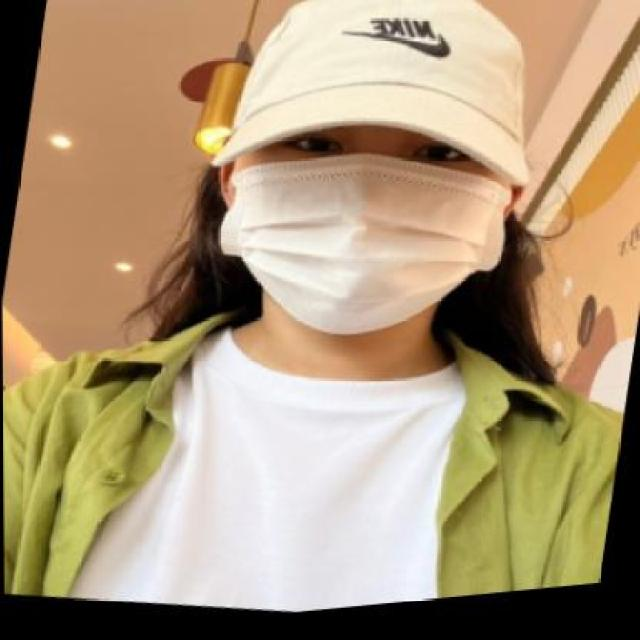hat: (208, 0, 552, 223)
